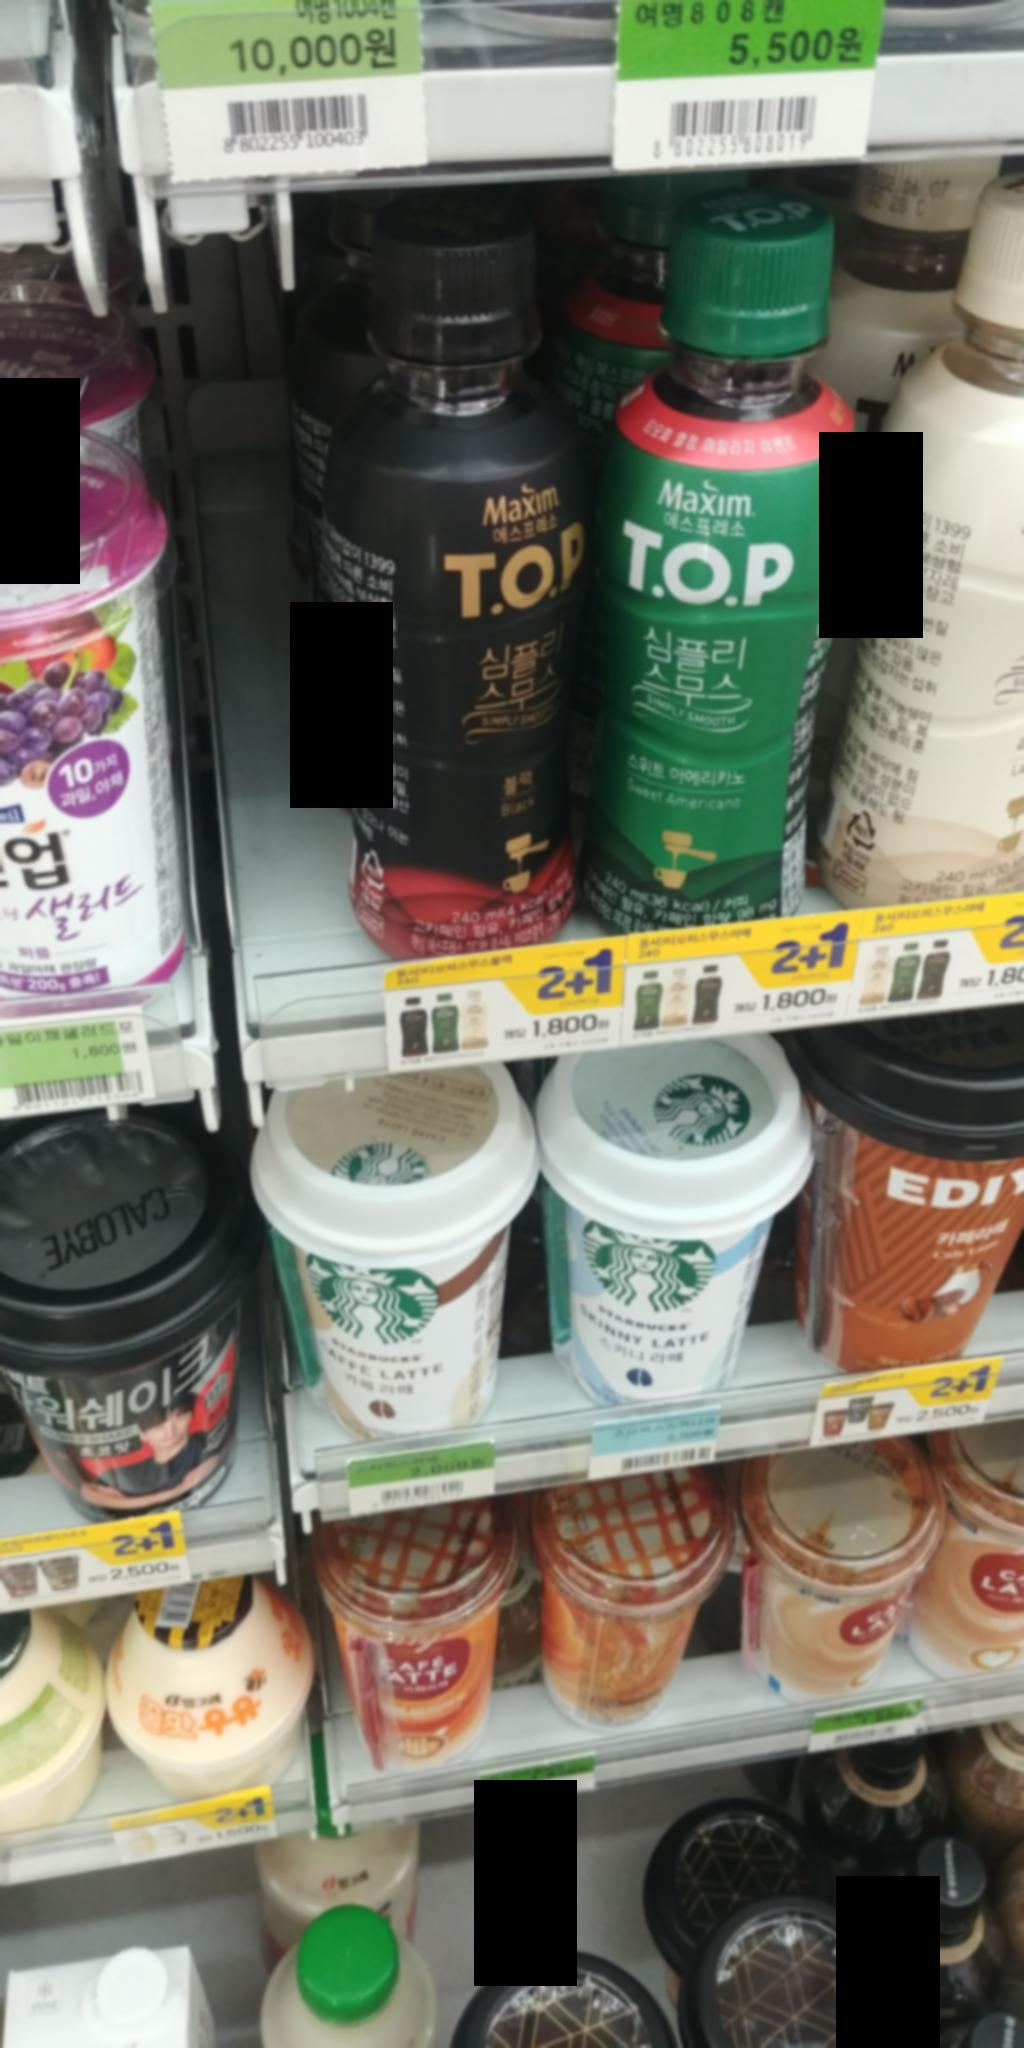starbucks_cafelatte: (244, 1066, 543, 1456)
